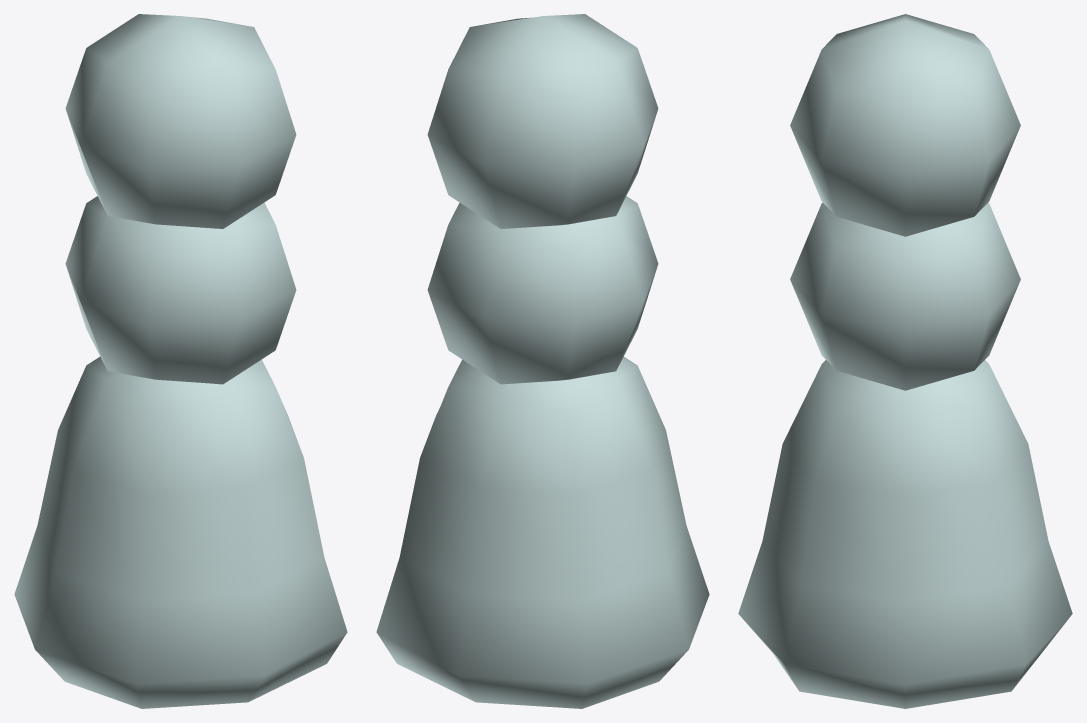
Rendered from Stompers.fbx.
3 renders of one model, left to right at view 1: azimuth 30°, elevation 25°; view 2: azimuth 150°, elevation 25°; view 3: azimuth 270°, elevation 25°, orthographic.
Visible parts, largest first — view 1: Cube.072; view 2: Cube.072; view 3: Cube.072.
Boxes of the visible parts, <box> form: Cube.072: <box>14,14,347,708</box>; Cube.072: <box>376,14,709,708</box>; Cube.072: <box>738,14,1072,708</box>.
Size of the model in its own units: 248 by 526 by 248.
